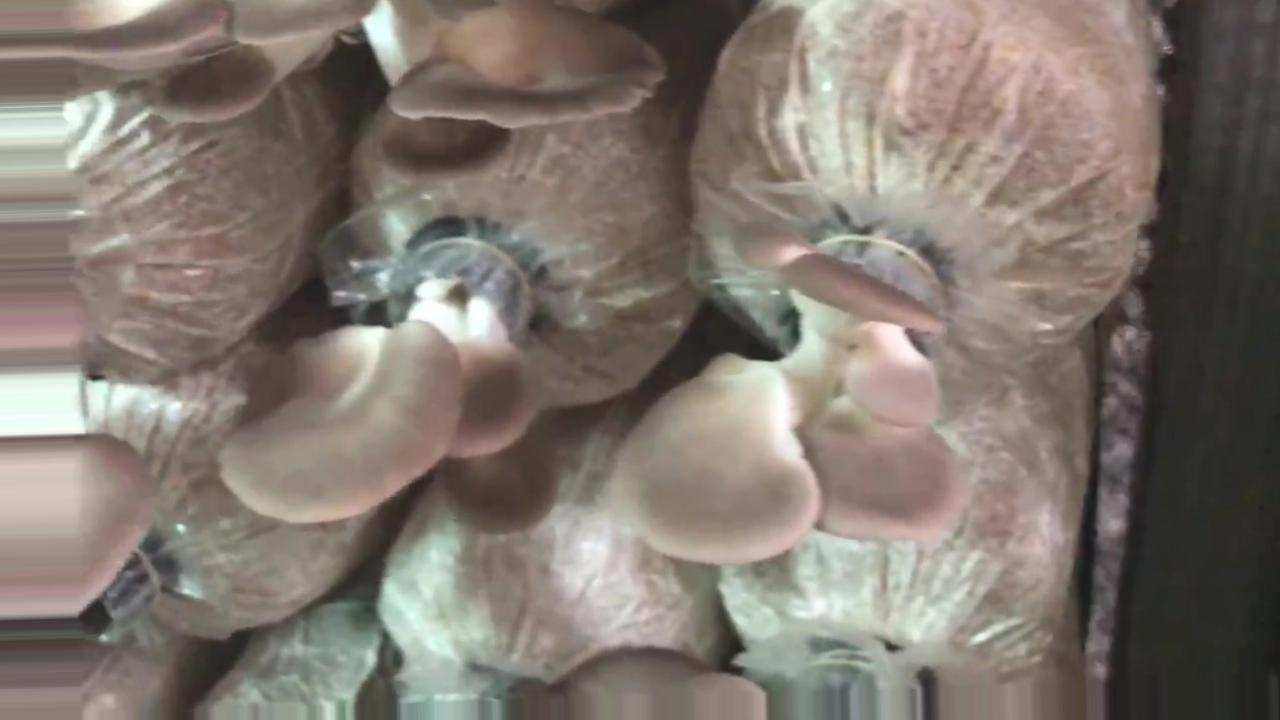nam: (614, 228, 968, 556), (225, 224, 563, 541), (385, 2, 674, 130)
